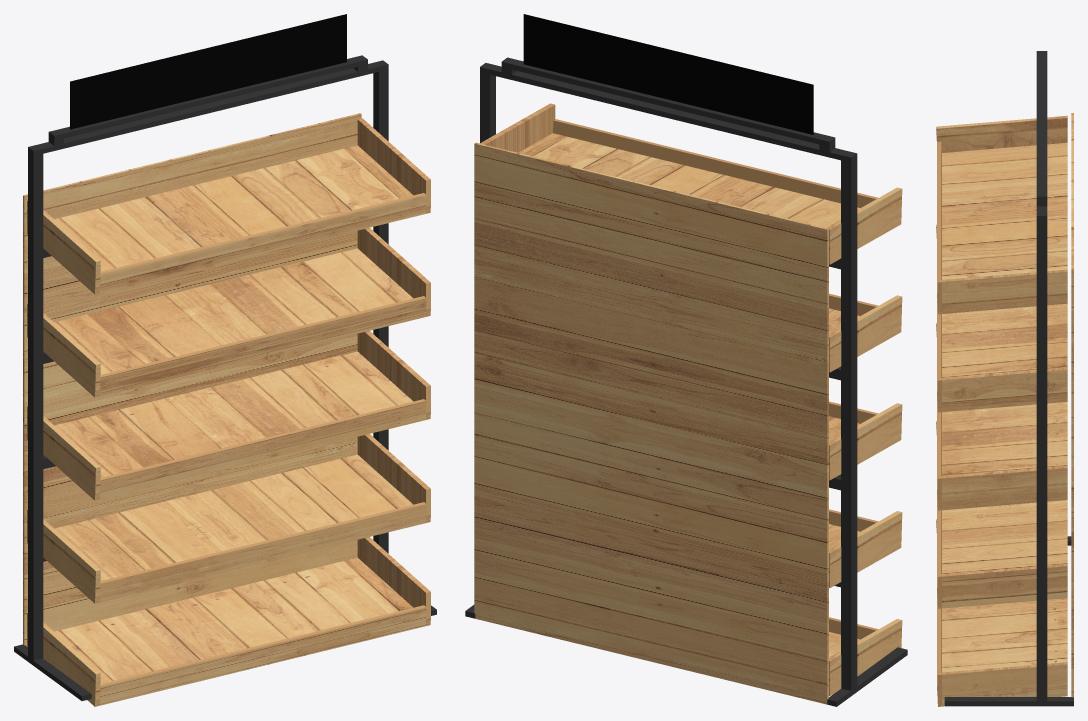
Rendered from Rack_Wooden.fbx.
3 renders of one model, left to right at view 1: azimuth 30°, elevation 25°; view 2: azimuth 150°, elevation 25°; view 3: azimuth 270°, elevation 25°, orthographic. The views are drawn at different scales.
Parts seen in each view (by area): view 1: Rack_Wooden; view 2: Rack_Wooden; view 3: Rack_Wooden.
Boxes of the visible parts, <box> form: Rack_Wooden: <box>14,14,436,706</box>; Rack_Wooden: <box>465,14,907,706</box>; Rack_Wooden: <box>936,51,1073,706</box>.
Bounding box in the file's own units: 46.18 × 71.88 × 16.29.
Materials: 3 (1 with a texture image).
